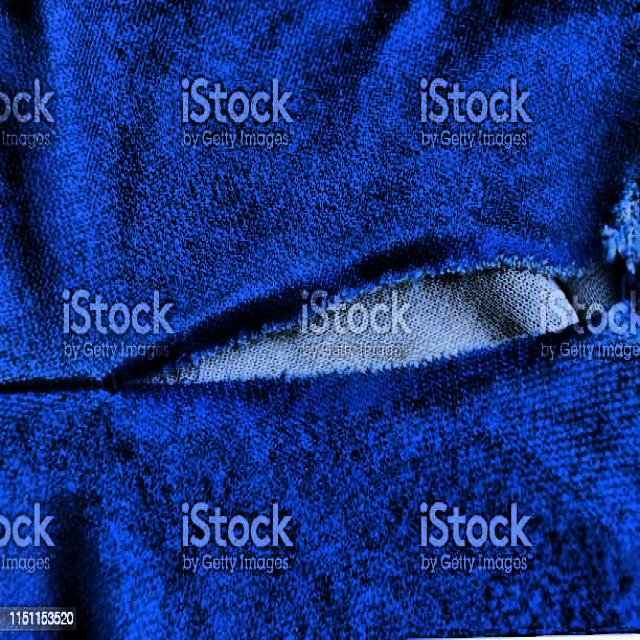seam: (80, 177, 640, 414)
